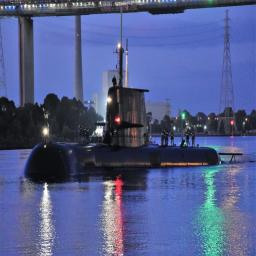submarine: (21, 9, 224, 183)
